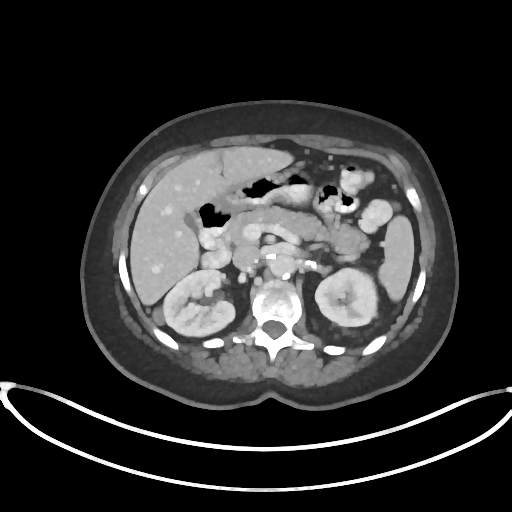Lesion: (147, 304, 167, 328)
